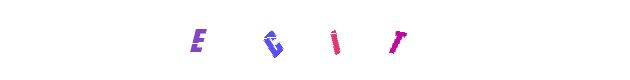C: (253, 0, 333, 80)
E: (199, 0, 279, 80)
I: (275, 0, 355, 80)
T: (329, 0, 409, 80)
